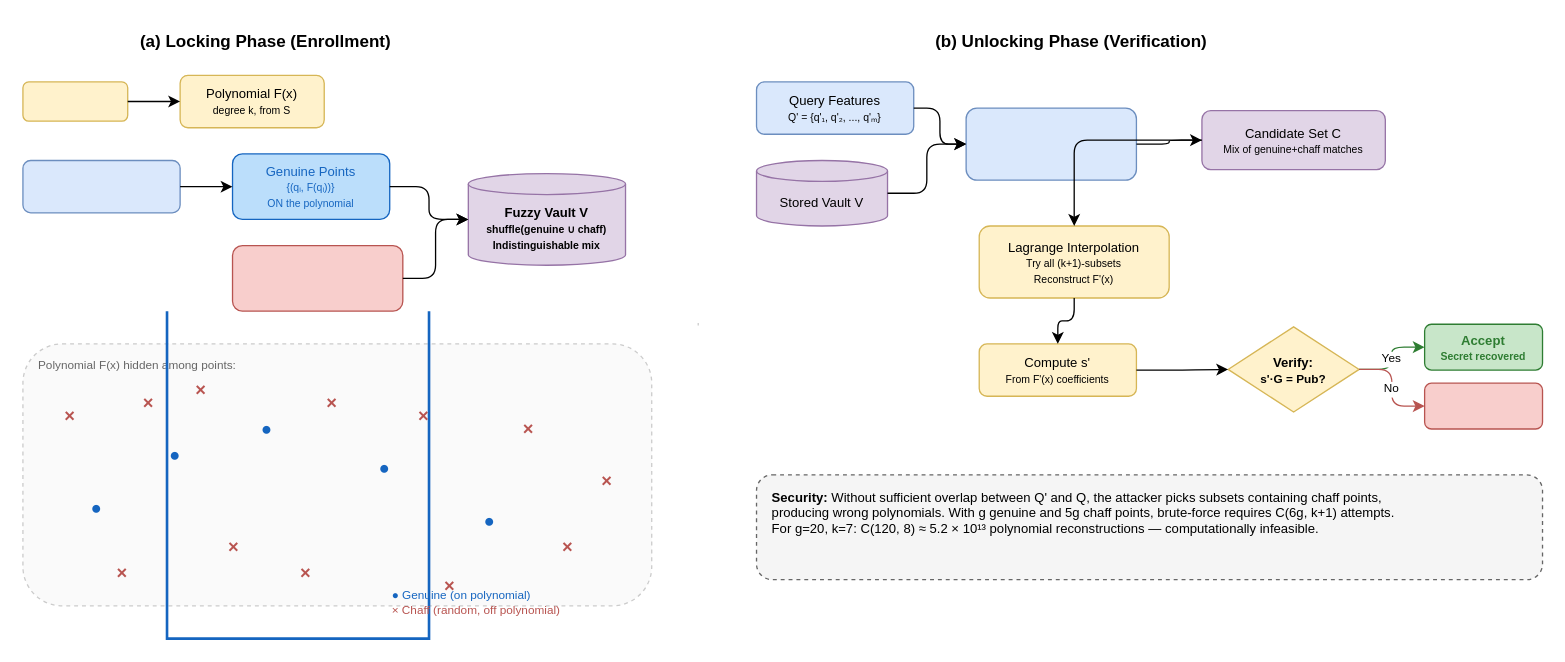
Image size: 1565x662. Some labels were removed from this diagram. The shapes that lost their labels are listed below. From the top down, each one's centre as x and y in pixels, then its label:
point 75,101: Secret S
point 1050,143: X-Coord Matching Find vault points whose x-coord matches Q'
point 101,186: Biometric Features Q = {q₁, q₂, ..., qₜ}
point 317,277: Chaff Points {(xⱼ, yⱼ)} where yⱼ ≠ F(xⱼ) NOT on the polynomial
point 1483,405: Reject No valid poly found
